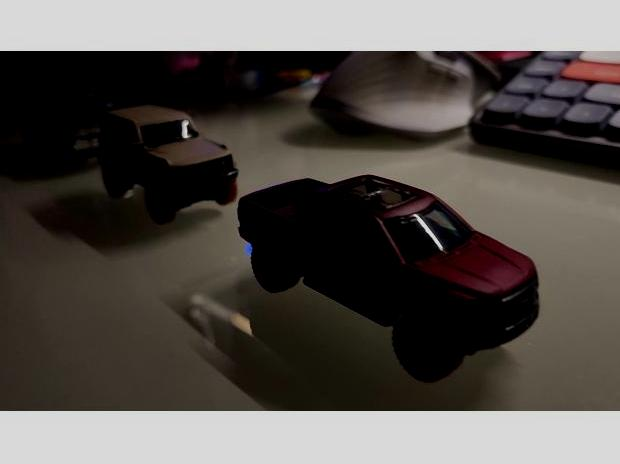toy-car: (236, 173, 539, 385), (96, 105, 239, 227)
